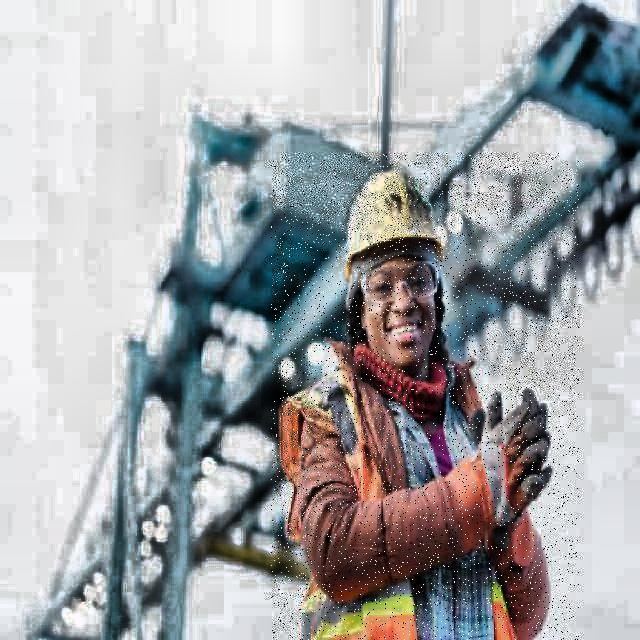safety_helmet: (345, 169, 446, 273)
safety_jacket: (278, 364, 524, 640)
